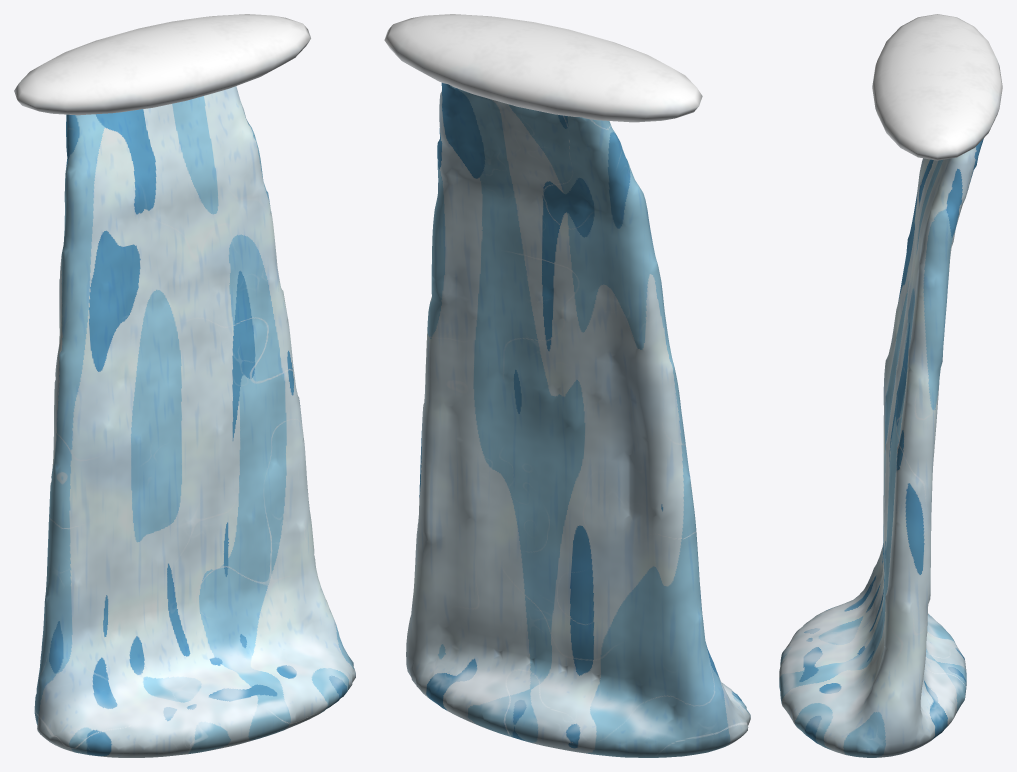
Rendered from frozen_waterfall.glb.
The picture shows the model from 3 angles, left to right: view 1: azimuth 30°, elevation 25°; view 2: azimuth 150°, elevation 25°; view 3: azimuth 270°, elevation 25°; orthographic projection. The views are drawn at different scales.
Visible parts, largest first — view 1: FrozenWaterfall; view 2: FrozenWaterfall; view 3: FrozenWaterfall.
Part boxes in pixels (x1,y1,x2,y2): FrozenWaterfall: [14, 14, 355, 757]; FrozenWaterfall: [384, 14, 750, 757]; FrozenWaterfall: [779, 14, 1002, 757].
Size of the model in its own units: 4.21 by 8.76 by 2.74.
Materials: 1 (1 with a texture image).
